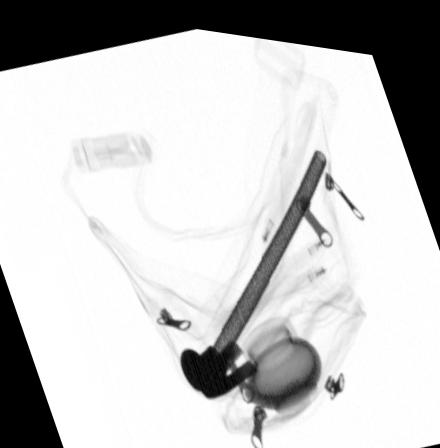Hammer: (180, 138, 327, 391)
